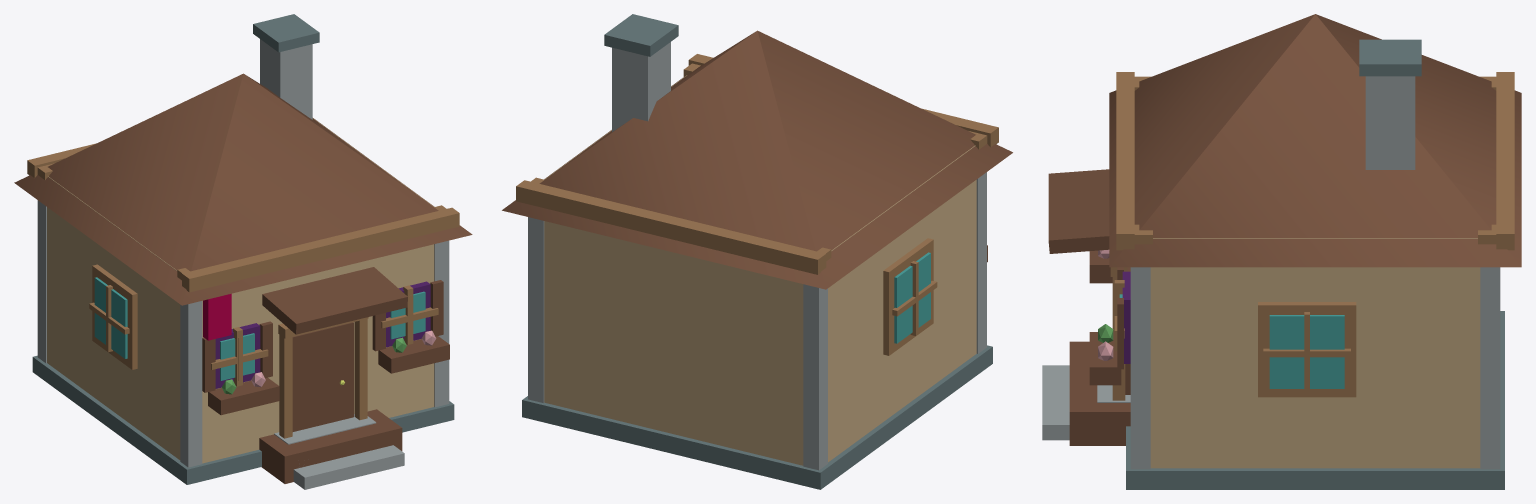
File: house.glb
3 renders of one model, left to right at view 1: azimuth 30°, elevation 25°; view 2: azimuth 150°, elevation 25°; view 3: azimuth 270°, elevation 25°, orthographic. The views are drawn at different scales.
Size of the model in its own units: 4.95 by 5.33 by 5.75.
